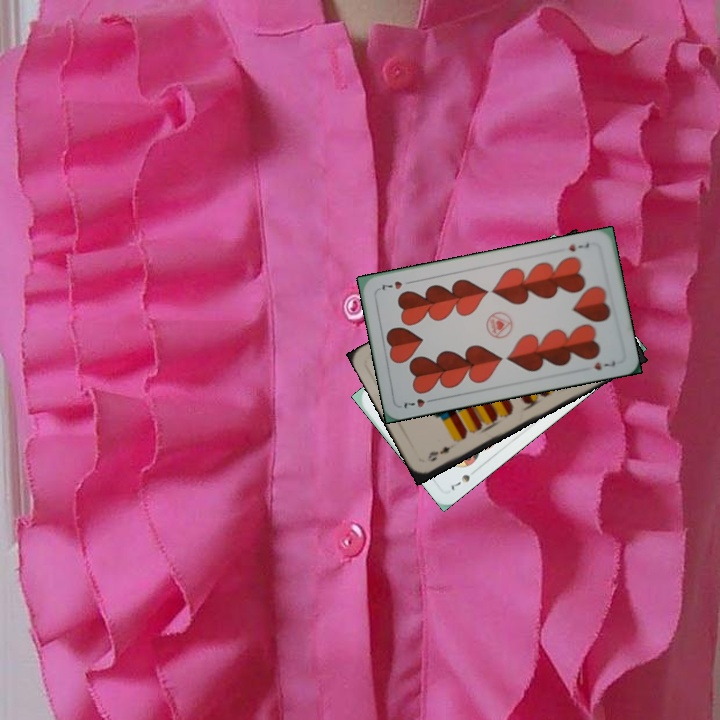E9: (423, 442, 453, 464)
H7: (400, 394, 438, 411), (565, 239, 592, 254)
S7: (447, 470, 473, 493)
